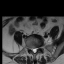CCS_normal: (33, 47, 35, 54)
LFS_severe_stenosis: (37, 45, 39, 49)
LLS_normal: (35, 46, 37, 53)
RFS_stenosis: (29, 46, 31, 51)
RLS_normal: (31, 46, 33, 53)
